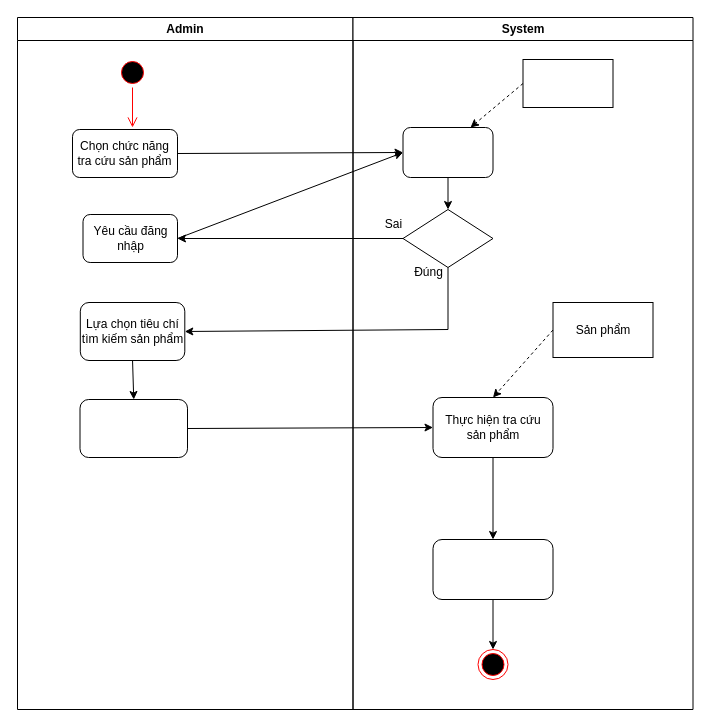
This 711x727 diagram has some shape labels left out. The shapes that lost their labels are listed below. From the top down, each one's centre as x and y in pixels, then its label:
At (567,83): "Tài khoản".
At (447,152): "Kiểm tra đăng nhập".
At (133,428): "Nhập thông tin sản phẩm cần tra cứu".
At (492,569): "Thông báo kết quả".
